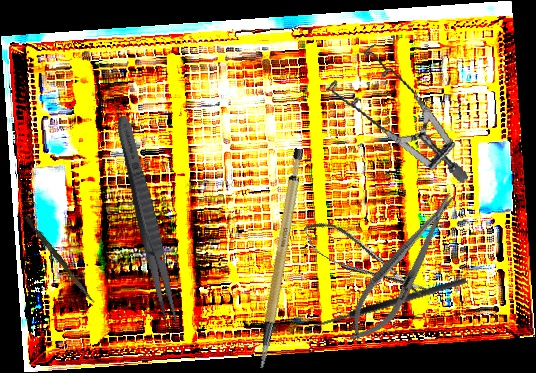Dressing Forceps: (110, 113, 186, 331)
Hook Surgical: (301, 276, 470, 342)
Micro Scissor: (297, 212, 432, 311)
Needle Holder: (336, 183, 471, 353)
Pusher: (21, 215, 99, 304)
Scalpel Handle: (224, 146, 332, 370)
Speculum: (318, 30, 469, 209)
